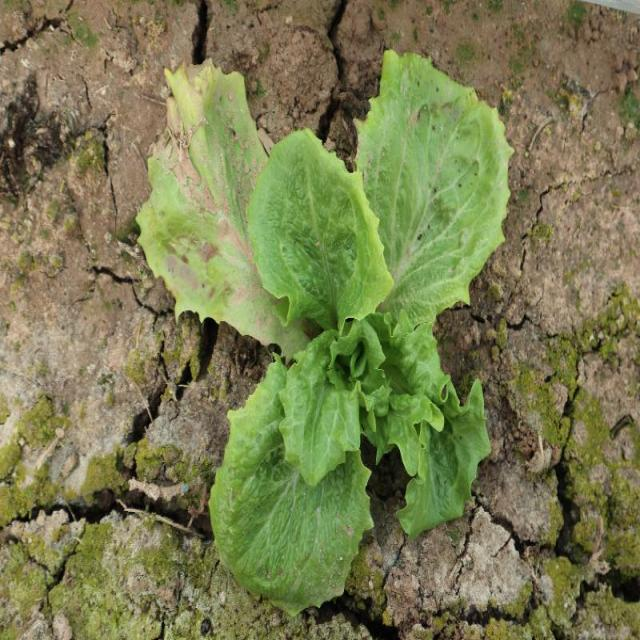crop: (206, 43, 514, 619)
